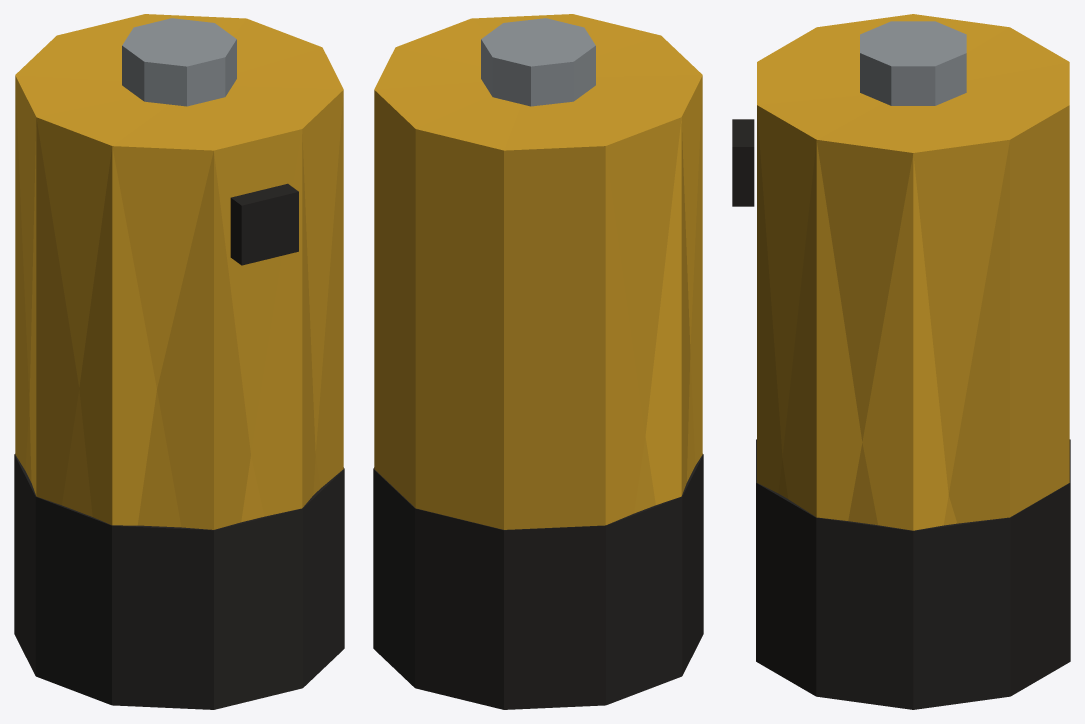
The model's file is battery_cell_odnorazovaya_idle.glb.
The picture shows the model from 3 angles, left to right: view 1: azimuth 30°, elevation 25°; view 2: azimuth 150°, elevation 25°; view 3: azimuth 270°, elevation 25°; orthographic projection.
Parts seen in each view (by area): view 1: battery_cell_odnorazovaya_idle; view 2: battery_cell_odnorazovaya_idle; view 3: battery_cell_odnorazovaya_idle.
Part boxes in pixels (x1,y1,x2,y2): battery_cell_odnorazovaya_idle: (14,14,344,709); battery_cell_odnorazovaya_idle: (373,14,703,709); battery_cell_odnorazovaya_idle: (732,14,1070,709).
Bounding box in the file's own units: 0.0302 × 0.06 × 0.0308.
Materials: 1 (1 with a texture image).
